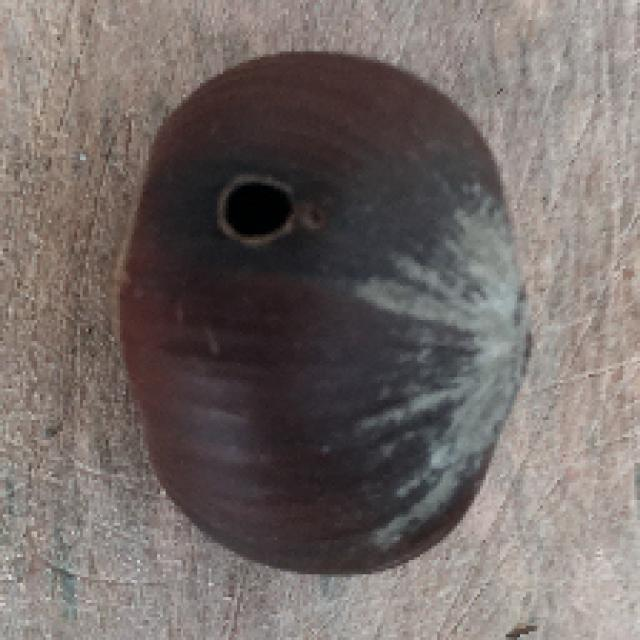damagedHazelnut: (114, 47, 532, 578)
